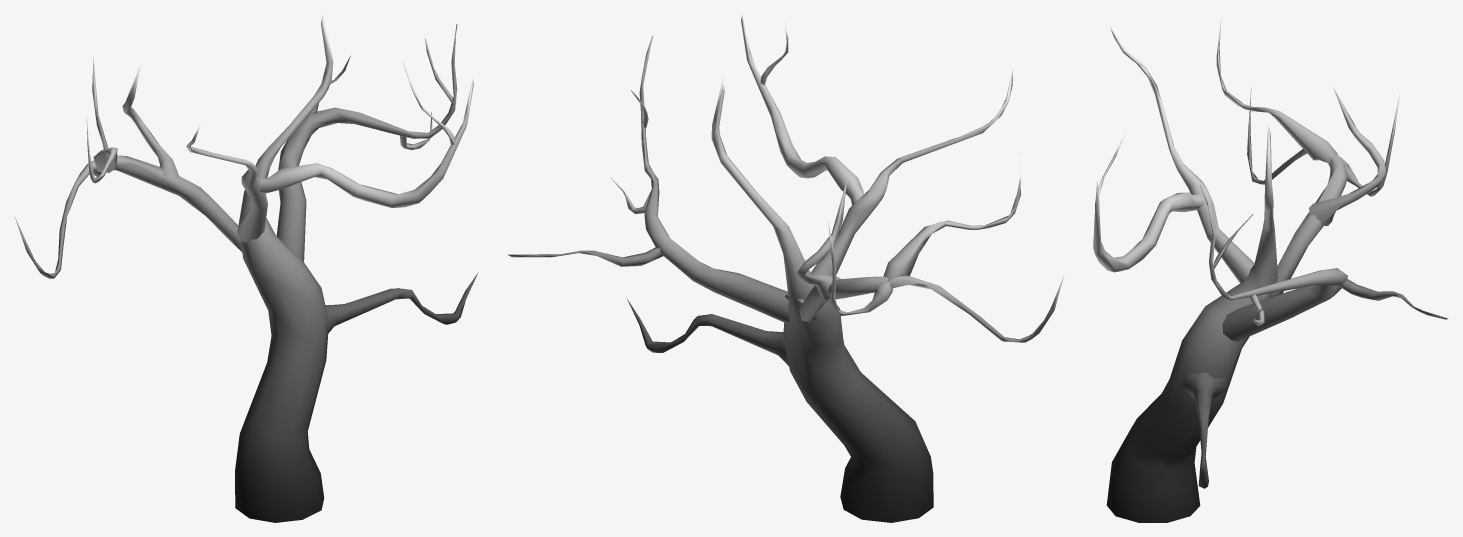
Rendered from Arvore.fbx.
3 renders of one model, left to right at view 1: azimuth 30°, elevation 25°; view 2: azimuth 150°, elevation 25°; view 3: azimuth 270°, elevation 25°, orthographic. The views are drawn at different scales.
Parts seen in each view (by area): view 1: Arvore; view 2: Arvore; view 3: Arvore.
Part boxes in pixels (left/top/right/bottom): Arvore: left=14, top=14, right=478, bottom=522; Arvore: left=508, top=15, right=1063, bottom=522; Arvore: left=1093, top=17, right=1448, bottom=522.
Bounding box in the file's own units: 3.03 × 2.8 × 2.08.
